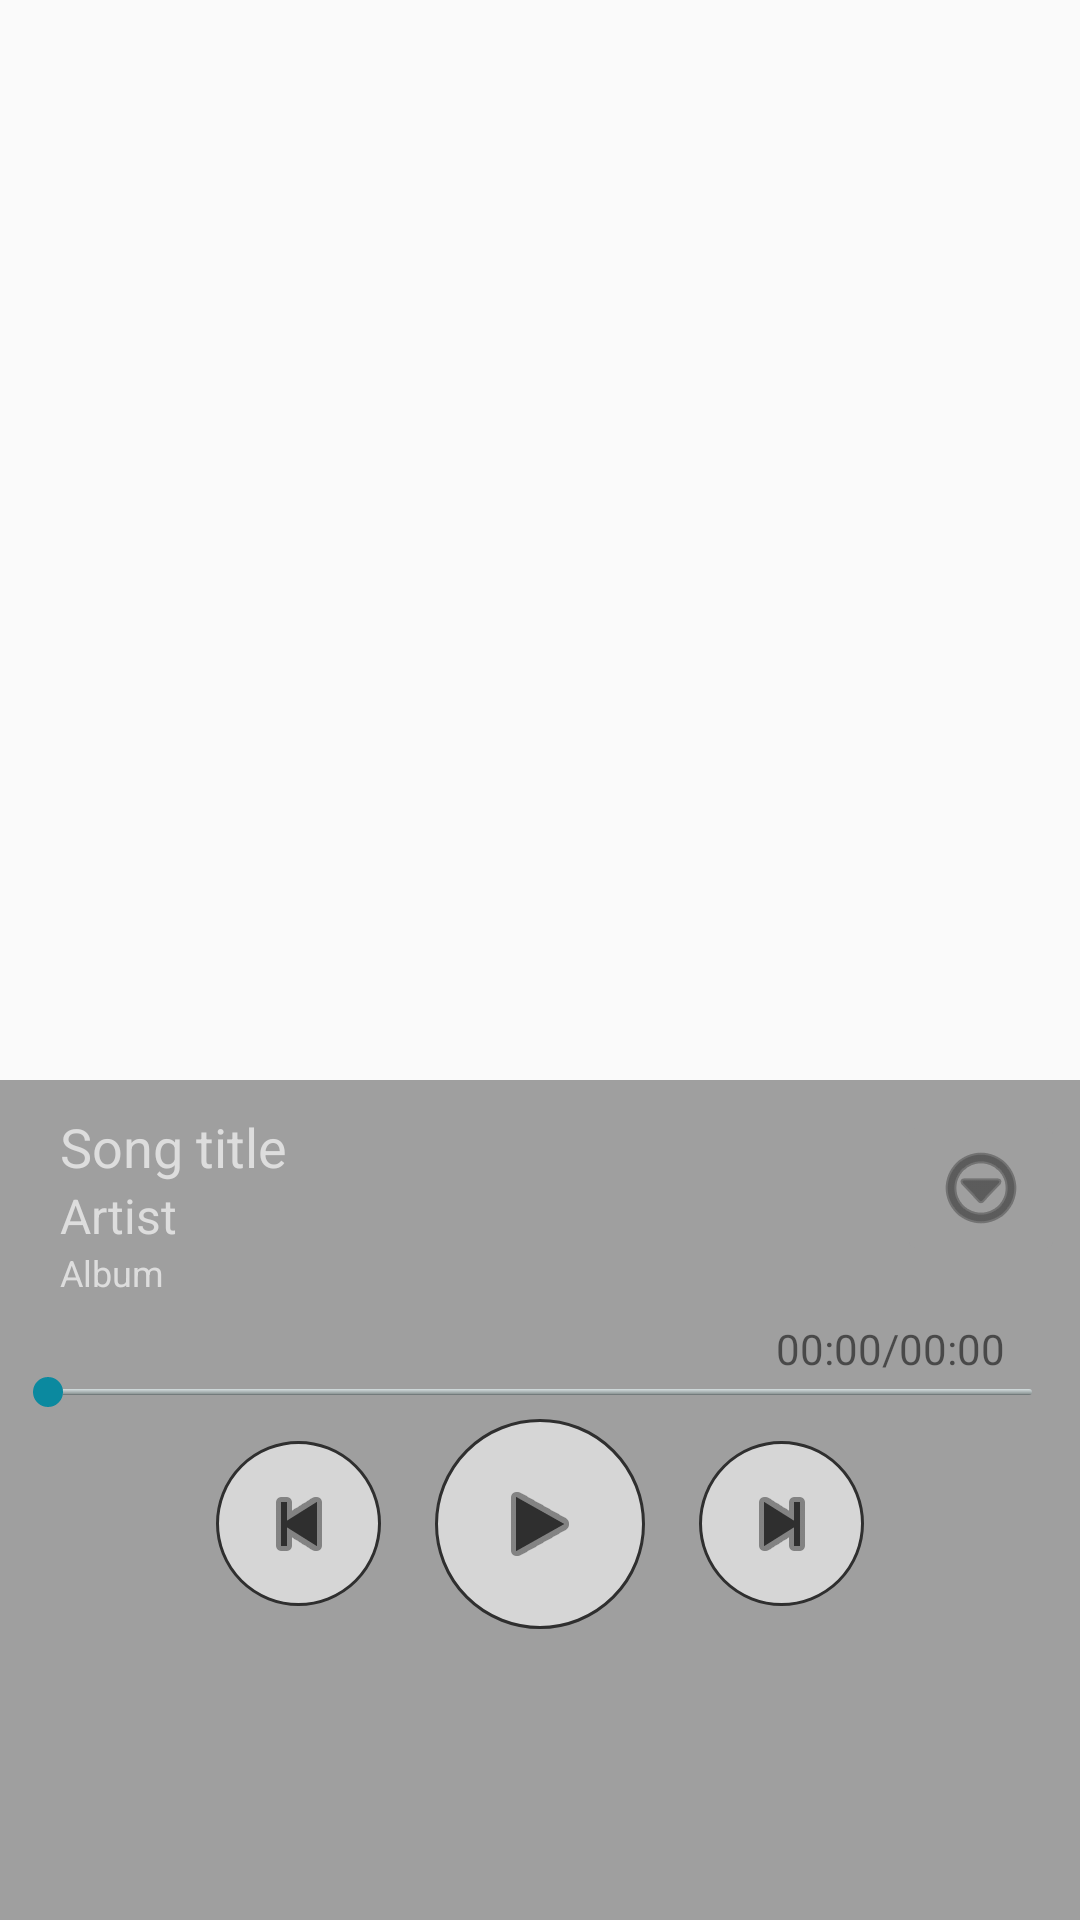

Locate icon controls on the screen. Image size 1080x1920, boxes as (x1, y1, x2, y2).
next: (699, 1441, 864, 1606)
play: (435, 1419, 645, 1629)
previous: (216, 1441, 381, 1606)
